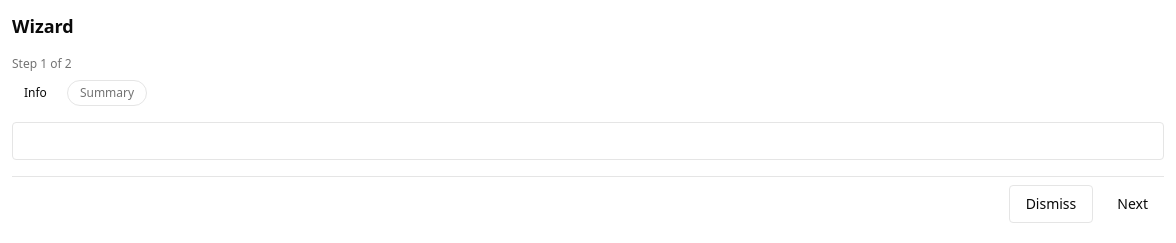
Test case: Wizard validation gate › forward chip-jump advances when the active step is valid
Type "filled" into the field named "required_field". click: {"x": 588, "y": 141}
box: x1=12 y1=122 x2=1164 y2=160
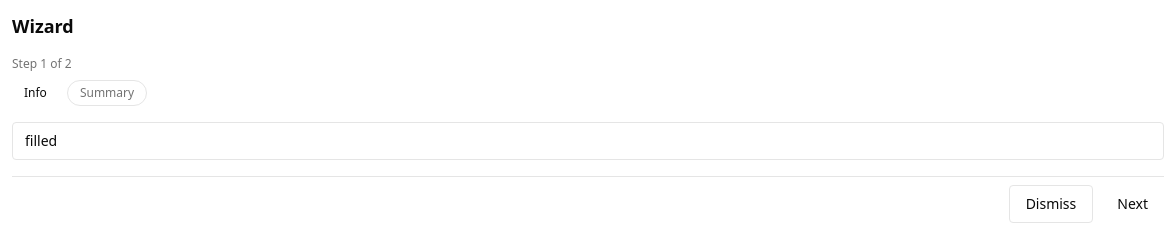
Click the button "Summary". click: {"x": 107, "y": 93}
box: x1=67 y1=80 x2=147 y2=106
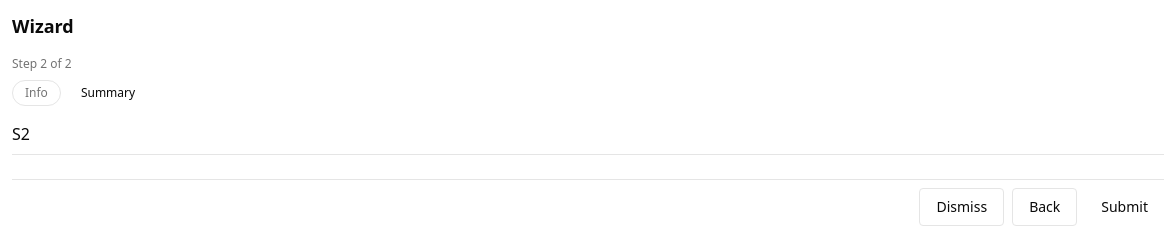
Check: the text "Step 2 of 2" is shown, box x1=12 y1=55 x2=72 y2=72
